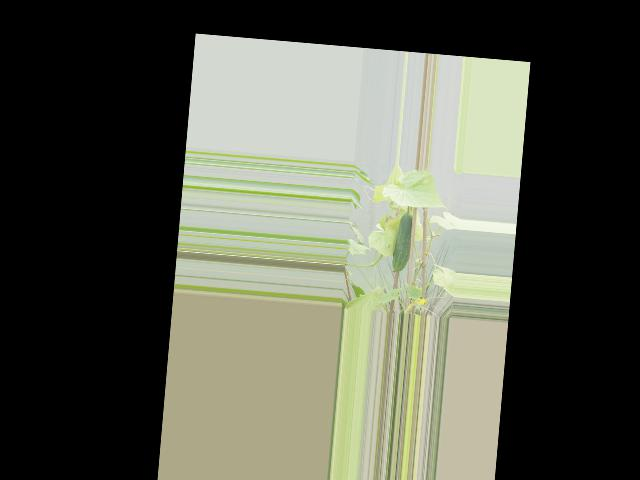cucumber: (391, 212, 413, 273)
